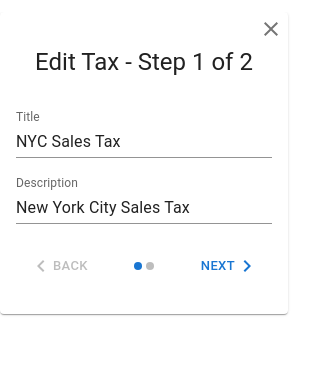
Scenario: TaxEdit › renders TaxEdit form component
Expected: the button named "close" is shown, [254,12,288,46]
Expected: the text "Edit Tax - Step 1 of 2" is shown, [16,46,272,78]
# Go to the next step by clicking the "Next" button
Click the button "Next" at (230, 266), box [196,250,264,282]
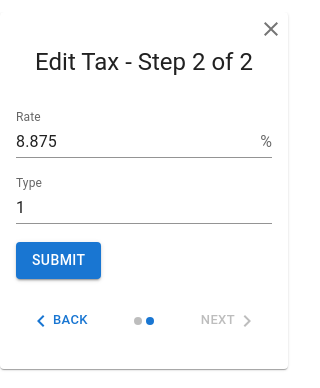
Result: the number field labelled "Rate" holds "8.875" at [16,126,252,158]
Result: the field labelled "Type" holds "1" at [16,192,272,224]
Result: the button "Submit" is shown at [16,242,101,278]
